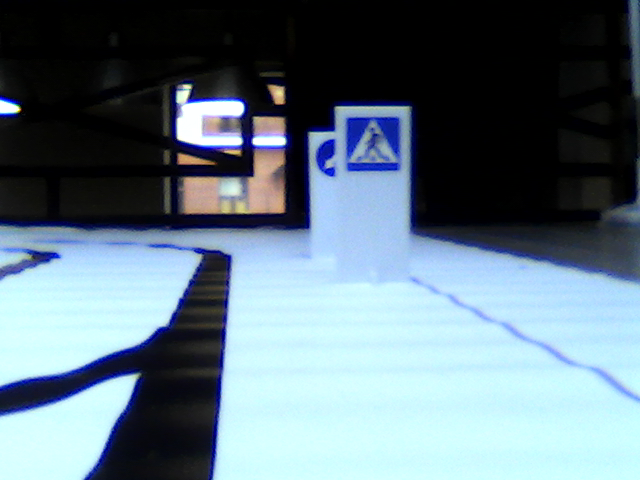pesh: (343, 114, 403, 174)
